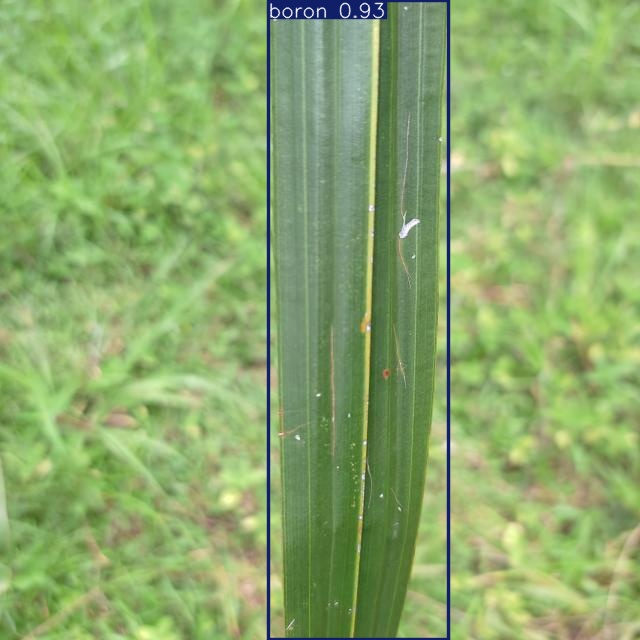nitrogen: (268, 0, 448, 640)
